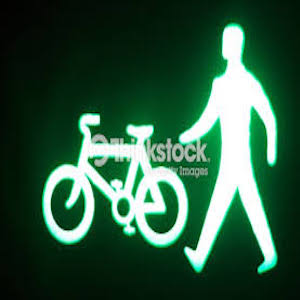green: (39, 15, 283, 271)
